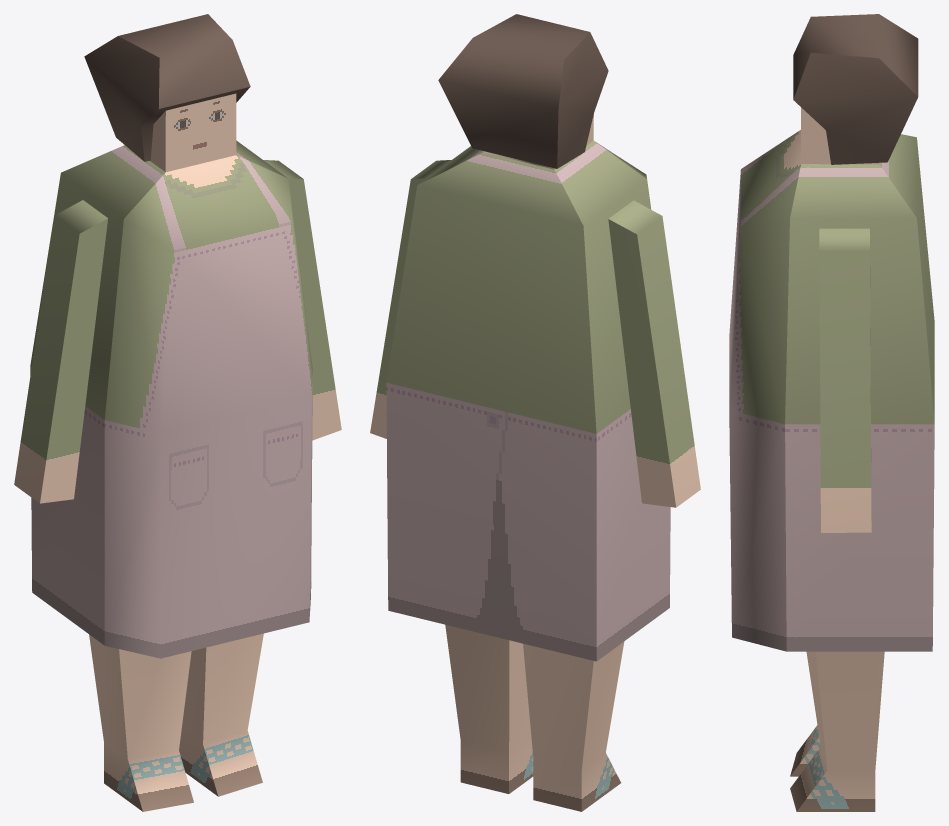
File: 021e_Busy_Momma.glb
3 views of the same model, side by side, from view 1: azimuth 30°, elevation 25°; view 2: azimuth 150°, elevation 25°; view 3: azimuth 270°, elevation 25° (orthographic).
Visible parts, largest first — view 1: part_0; view 2: part_0; view 3: part_0.
Part boxes in pixels (<box>): part_0: <box>14,14,341,811</box>; part_0: <box>370,14,700,811</box>; part_0: <box>729,14,934,811</box>.
Bounding box in the file's own units: 0.7607 × 1.78 × 0.4435.
1 material, 1 textured.
